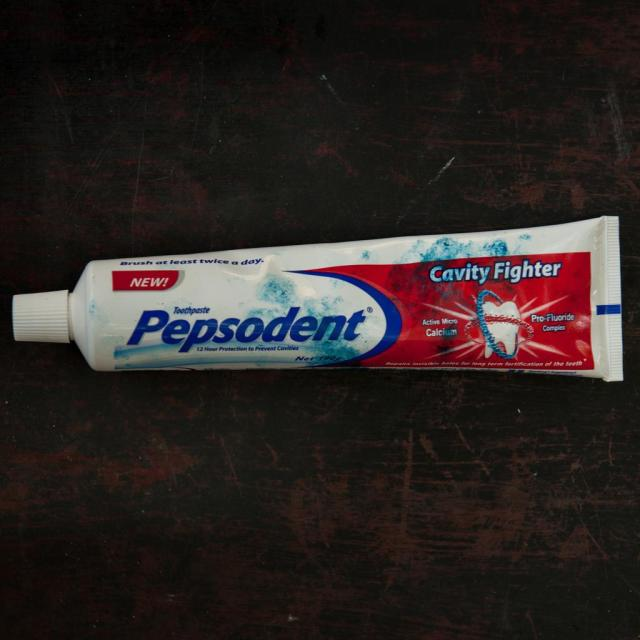Toothpaste: (6, 212, 632, 392)
